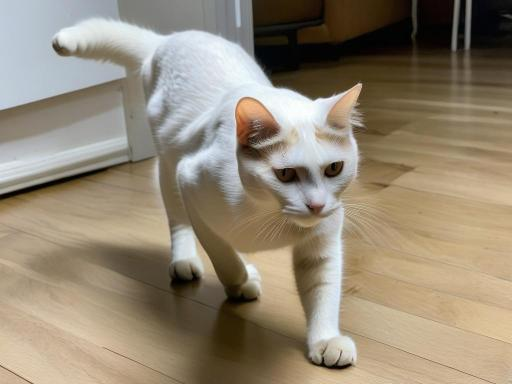cat_standing: (53, 18, 363, 366)
